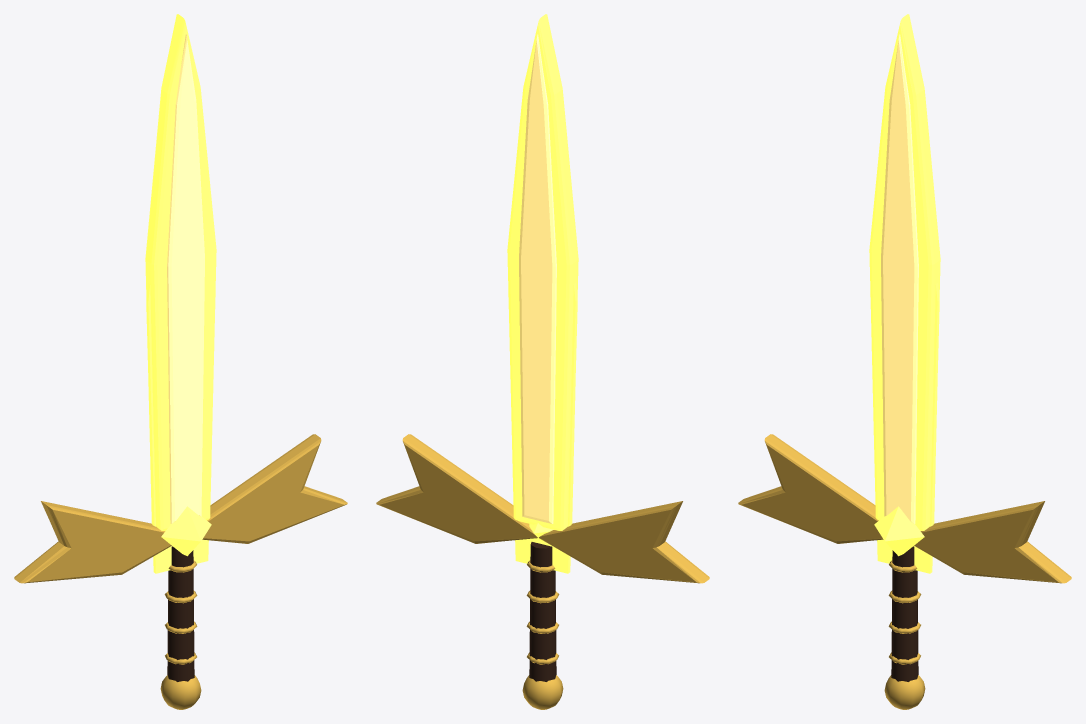
Rendered from sword_f3_8173dda2.glb.
3 renders of one model, left to right at view 1: azimuth 30°, elevation 25°; view 2: azimuth 150°, elevation 25°; view 3: azimuth 330°, elevation 25°, orthographic.
Parts seen in each view (by area): view 1: m5_ow80_, m2_ow80_, m1_gm130_, m4_ow80_, m0_gm110_, m3_gm160_; view 2: m5_ow80_, m2_ow80_, m1_gm130_, m4_ow80_, m0_gm110_; view 3: m5_ow80_, m2_ow80_, m1_gm130_, m4_ow80_, m0_gm110_, m3_gm160_.
Part boxes in pixels (x1=…): m5_ow80_: x1=14, y1=434, x2=347, y2=709; m2_ow80_: x1=167, y1=34, x2=204, y2=523; m1_gm130_: x1=145, y1=14, x2=216, y2=530; m4_ow80_: x1=167, y1=546, x2=194, y2=681; m0_gm110_: x1=146, y1=283, x2=215, y2=573; m3_gm160_: x1=161, y1=506, x2=211, y2=556; m5_ow80_: x1=376, y1=434, x2=709, y2=709; m2_ow80_: x1=519, y1=34, x2=556, y2=523; m1_gm130_: x1=507, y1=14, x2=578, y2=530; m4_ow80_: x1=529, y1=542, x2=556, y2=681; m0_gm110_: x1=508, y1=283, x2=577, y2=573; m5_ow80_: x1=738, y1=434, x2=1071, y2=709; m2_ow80_: x1=881, y1=34, x2=918, y2=523; m1_gm130_: x1=869, y1=14, x2=940, y2=530; m4_ow80_: x1=891, y1=546, x2=918, y2=681; m0_gm110_: x1=870, y1=283, x2=939, y2=573; m3_gm160_: x1=874, y1=506, x2=924, y2=556.
Bounding box in the file's own units: 1.03 × 2.08 × 0.1633.
